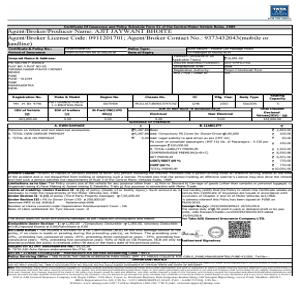table: (8, 94, 291, 121)
text: (9, 63, 65, 90)
